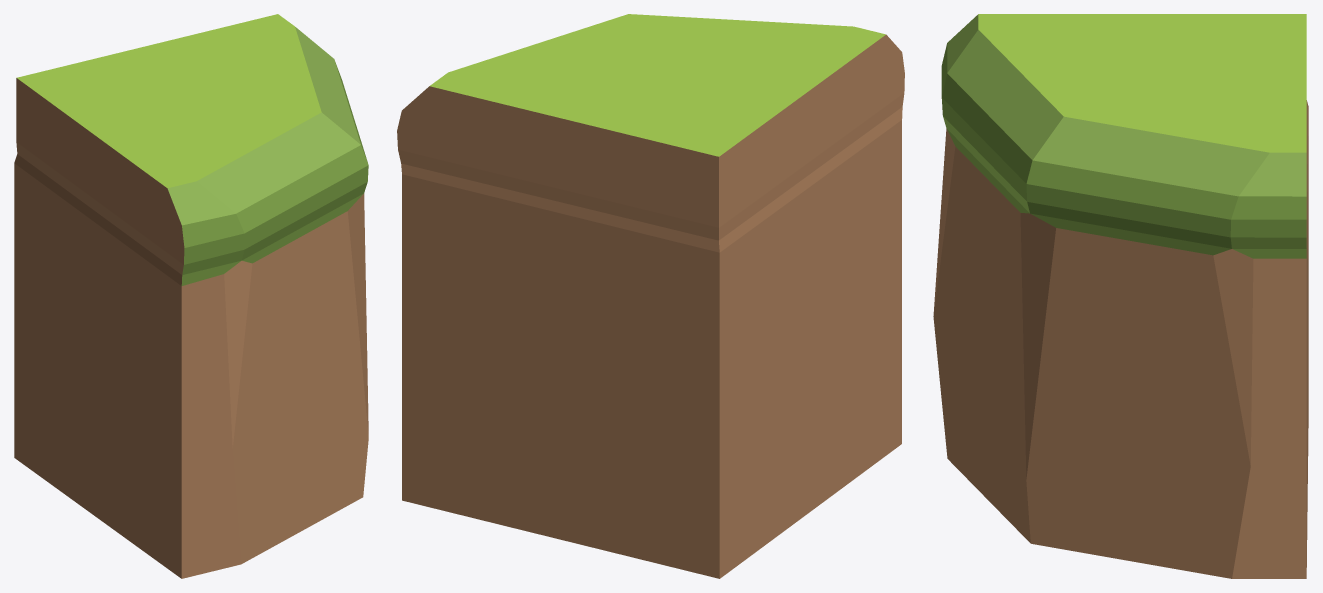
The model's file is corner_part.fbx.
3 views of the same model, side by side, from view 1: azimuth 30°, elevation 25°; view 2: azimuth 150°, elevation 25°; view 3: azimuth 270°, elevation 25° (orthographic). The views are drawn at different scales.
Parts seen in each view (by area): view 1: Cube.116; view 2: Cube.116; view 3: Cube.116.
Boxes of the visible parts, x1,y1,x2,y2 form: Cube.116: (14,14,368,578); Cube.116: (397,14,904,578); Cube.116: (933,14,1308,578).
Bounding box in the file's own units: 0.8227 × 0.8227 × 1.
